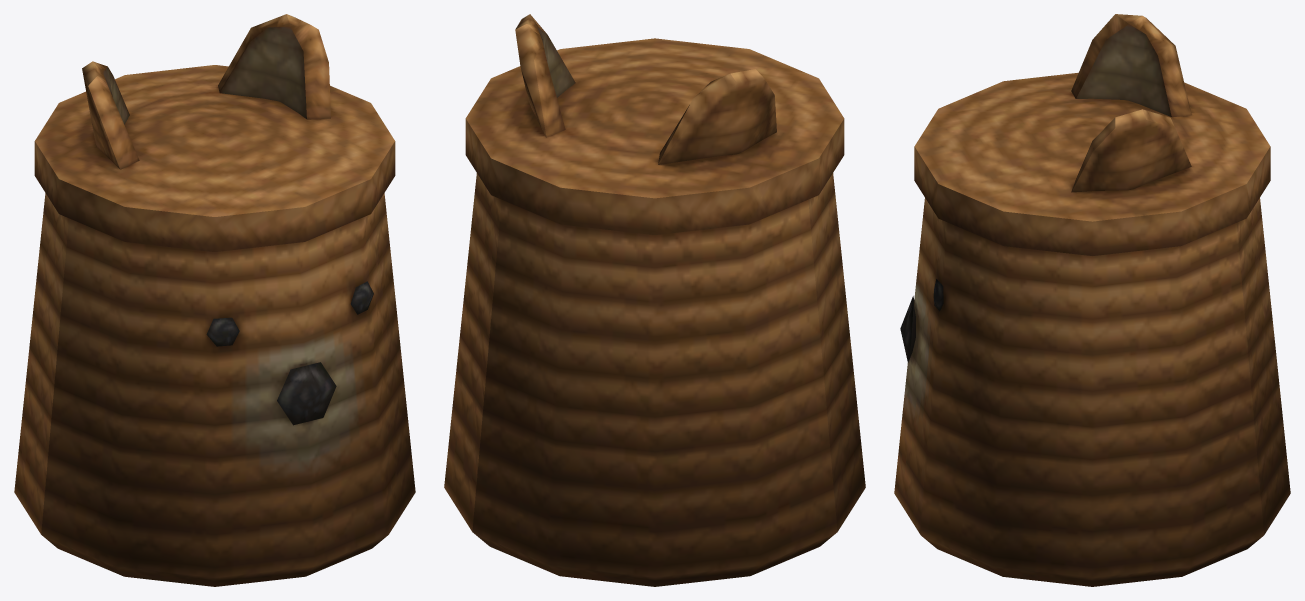
The model's file is cestaRopaSucia.fbx.
3 renders of one model, left to right at view 1: azimuth 30°, elevation 25°; view 2: azimuth 150°, elevation 25°; view 3: azimuth 270°, elevation 25°, orthographic. The views are drawn at different scales.
Visible parts, largest first — view 1: cesta; view 2: cesta; view 3: cesta.
Part boxes in pixels (x1=…): cesta: x1=14, y1=14, x2=415, y2=586; cesta: x1=444, y1=14, x2=865, y2=586; cesta: x1=894, y1=14, x2=1290, y2=586.
Bounding box in the file's own units: 48.23 × 60.21 × 48.23.
Materials: 1 (1 with a texture image).
